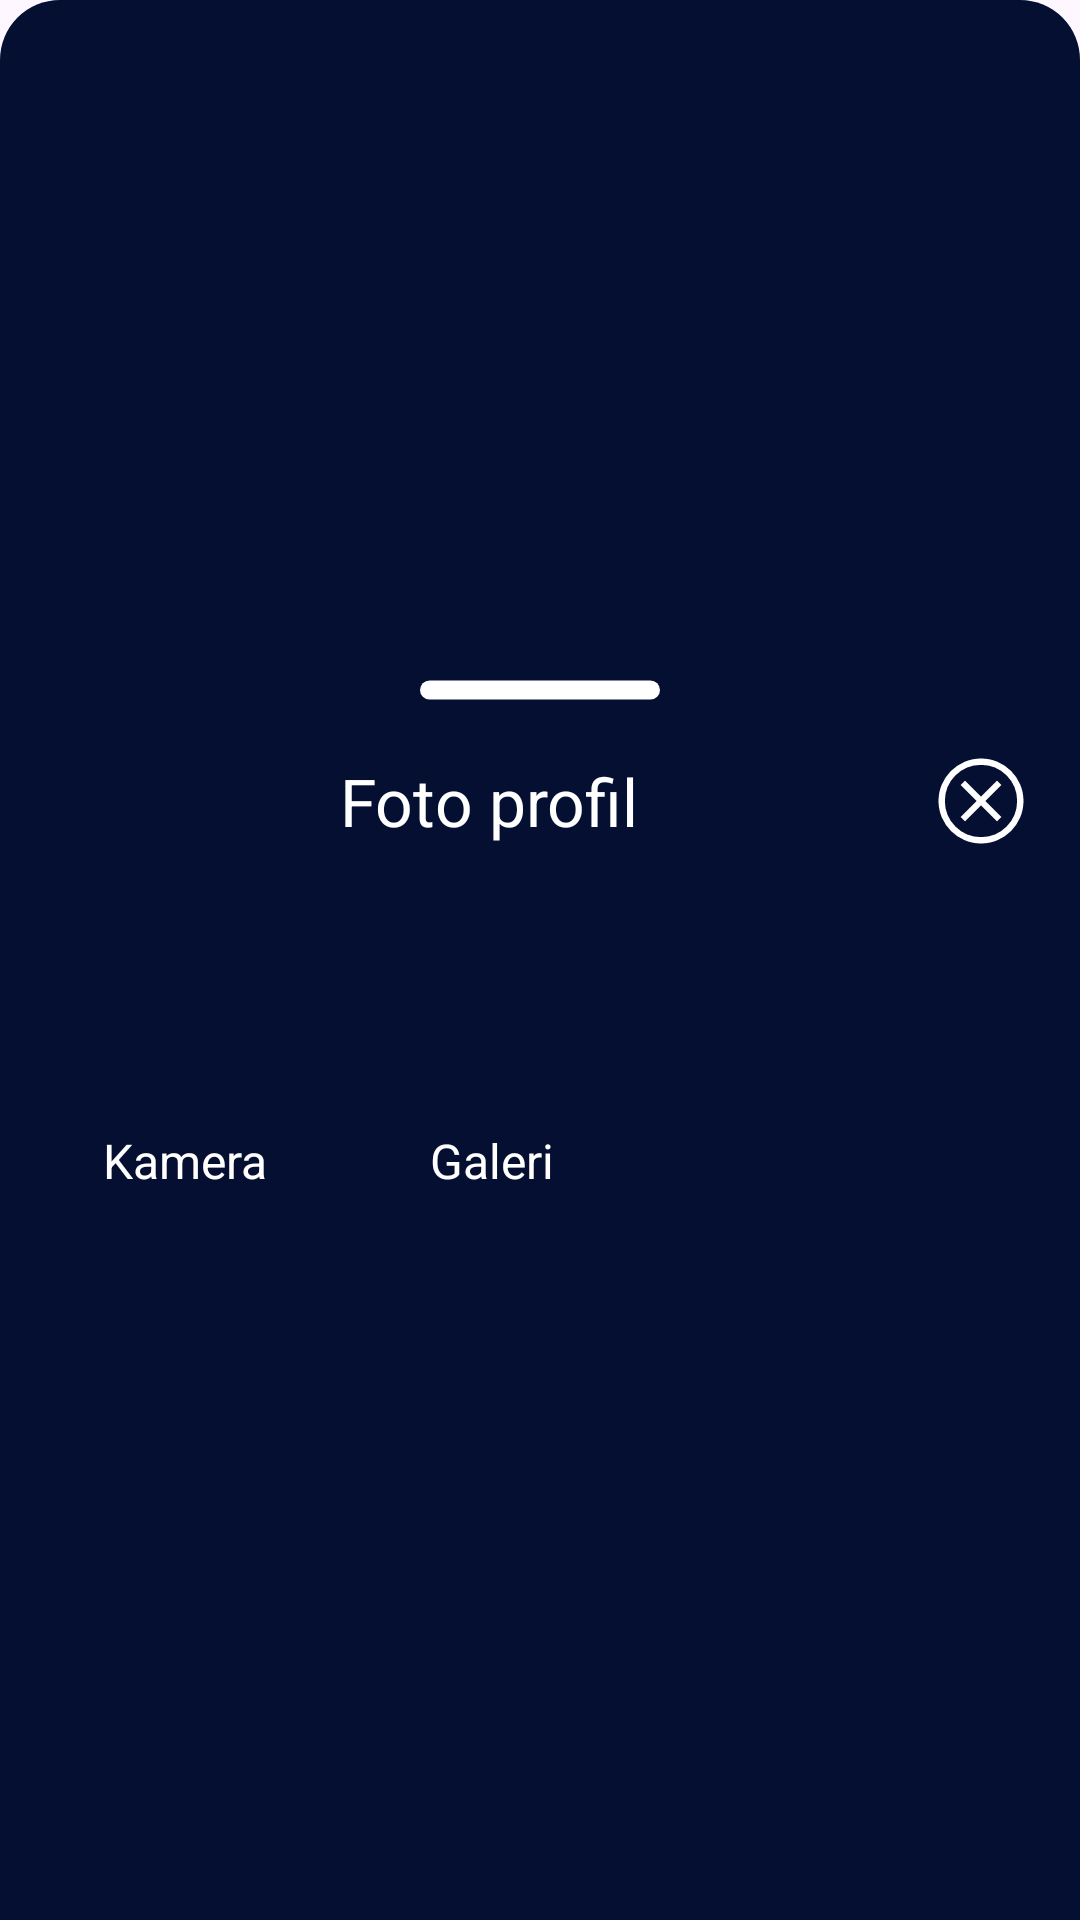

Where icons sit on this 1080px x 1920px app screen, as (x1=x1, y1=y1, x2=x2, y2=y2):
cancel: (x1=938, y1=758, x2=1024, y2=844)
